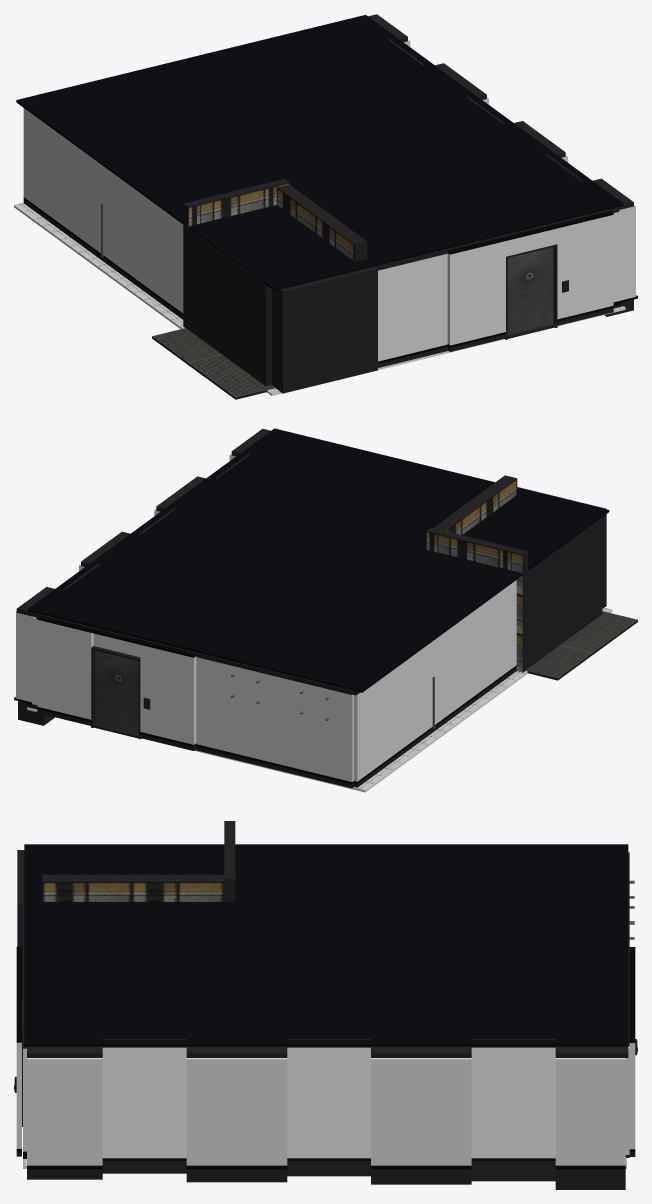
File: SCP 1123 Containment Chamber.obj
The picture shows the model from 3 angles, top to bottom: view 1: azimuth 30°, elevation 25°; view 2: azimuth 150°, elevation 25°; view 3: azimuth 270°, elevation 25°; orthographic projection. The views are drawn at different scales.
Parts seen in each view (by area): view 1: Part44, Part64, Part54, Part35, Part23, Part307, Part211, Door5, Part5, Part302, Part101, Part31 (+11 smaller); view 2: Part44, Part64, Part95, Part301, Part70, Door3, Part5, Part302, Part31, Part7, Part48, Part125 (+10 smaller); view 3: Part44, Part109, Part117, Part105, Part121, Part113, Part101, Part125, Part296, Part40, Part118, Part114 (+15 smaller).
Boxes of the visible parts, left/top/right/bottom form: Part44: left=16, top=15, right=623, bottom=290; Part64: left=23, top=108, right=183, bottom=313; Part54: left=378, top=253, right=447, bottom=361; Part35: left=272, top=318, right=377, bottom=393; Part23: left=272, top=267, right=377, bottom=341; Part307: left=447, top=241, right=505, bottom=345; Part211: left=557, top=215, right=613, bottom=319; Door5: left=508, top=247, right=553, bottom=334; Part5: left=188, top=279, right=233, bottom=362; Part302: left=188, top=228, right=233, bottom=311; Part101: left=613, top=205, right=635, bottom=301; Part31: left=233, top=312, right=271, bottom=386; Part44: left=27, top=428, right=609, bottom=692; Part64: left=354, top=580, right=516, bottom=781; Part95: left=196, top=657, right=353, bottom=781; Part301: left=140, top=645, right=196, bottom=744; Part70: left=37, top=619, right=93, bottom=719; Door3: left=95, top=650, right=138, bottom=734; Part5: left=528, top=588, right=571, bottom=668; Part302: left=528, top=540, right=571, bottom=619; Part31: left=571, top=565, right=602, bottom=636; Part7: left=571, top=517, right=602, bottom=587; Part48: left=560, top=611, right=637, bottom=652; Part125: left=16, top=611, right=32, bottom=702; Part44: left=24, top=844, right=628, bottom=1046; Part109: left=186, top=1058, right=287, bottom=1165; Part117: left=371, top=1058, right=471, bottom=1165; Part105: left=102, top=1047, right=186, bottom=1158; Part121: left=471, top=1047, right=555, bottom=1158; Part113: left=287, top=1047, right=370, bottom=1158; Part101: left=27, top=1058, right=102, bottom=1165; Part125: left=555, top=1058, right=625, bottom=1165; Part296: left=132, top=881, right=224, bottom=901; Part40: left=42, top=881, right=131, bottom=901; Part118: left=471, top=1161, right=555, bottom=1181; Part114: left=371, top=1169, right=471, bottom=1184.
Bounding box in the file's own units: 38.6 × 12.8 × 44.63.
21 materials, 10 textured.
